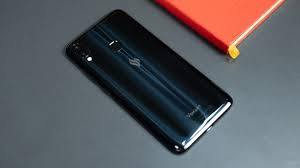vsmart: (59, 3, 234, 156)
